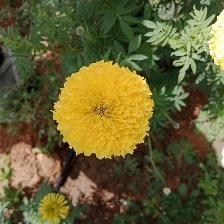marigold: (53, 58, 158, 163)
